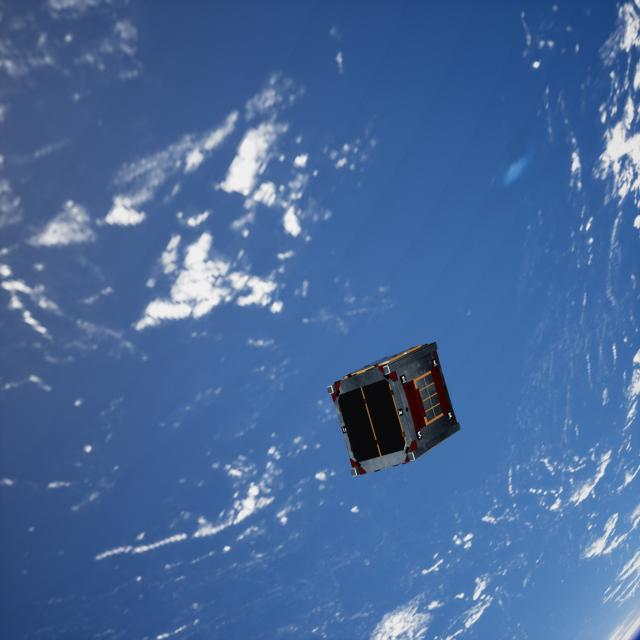medium_debris: (330, 336, 458, 478)
